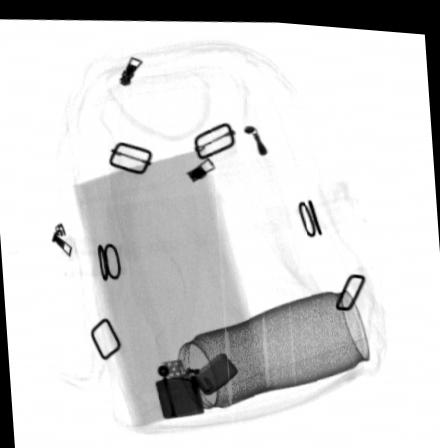Lighter: (153, 348, 239, 417)
